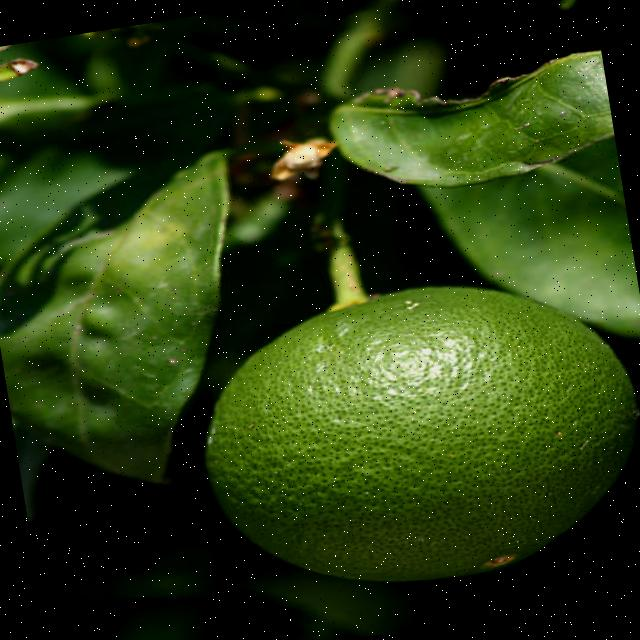Unripe: (175, 252, 640, 619)
